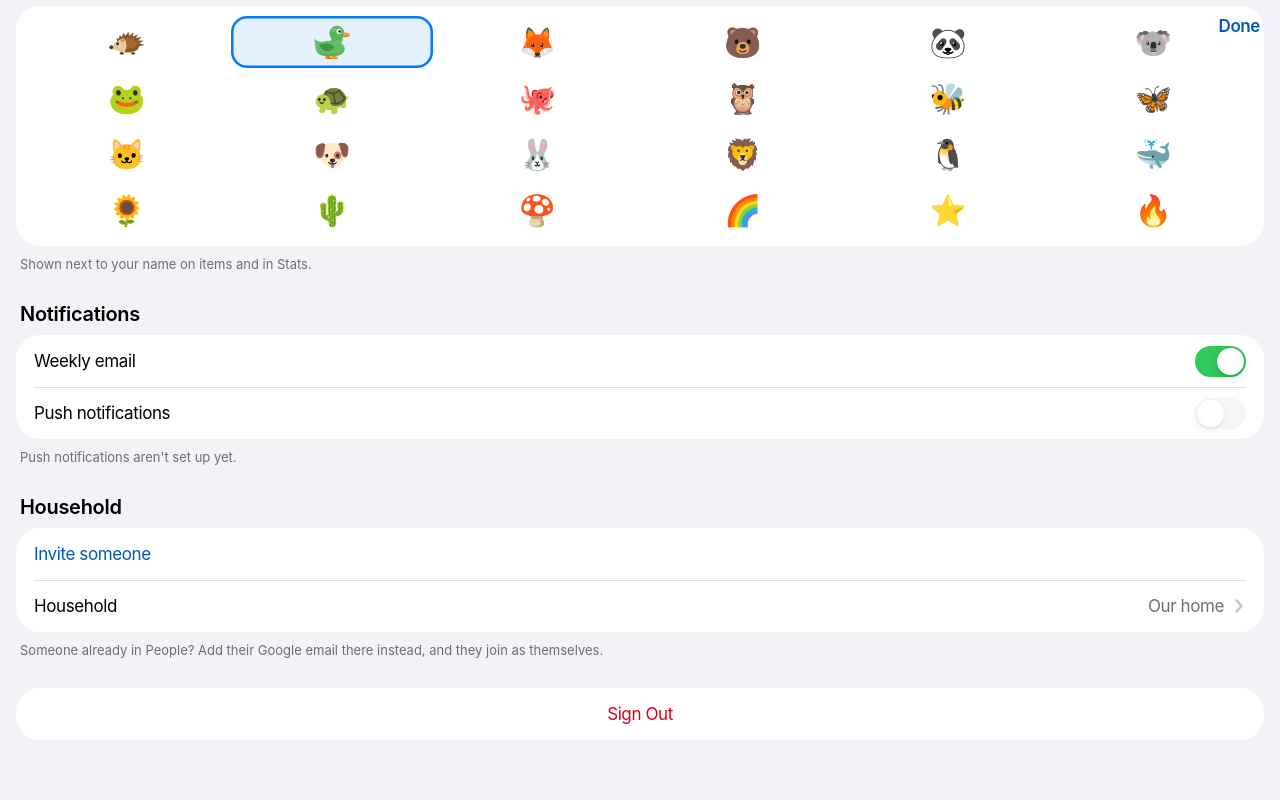
Test: People: who has joined › lists everyone in member order, saying who has not joined yet and with which email
(page scrolled)
Step 1. Click the button "Household Our home" → (75, 606), box top-left (16, 580), bottom-right (1264, 632)
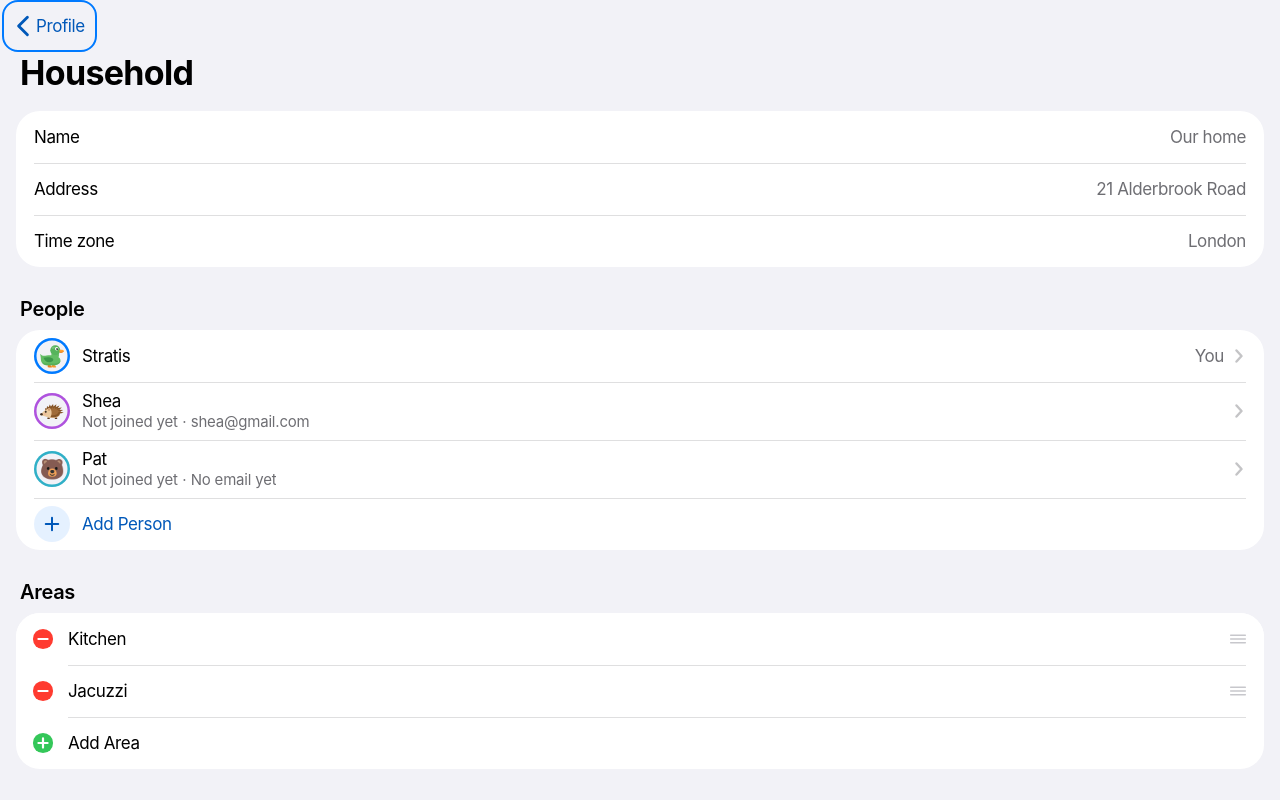
Check: the heading "Household" is shown, box top-left (20, 52), bottom-right (193, 93)
Check: the buttons read "🦆Stratis, You", "🦔Shea, Not joined yet · , shea@gmail.com", "🐻Pat, Not joined yet · , No email yet", "Add Person", in this order, box top-left (16, 330), bottom-right (1264, 382); top-left (16, 382), bottom-right (1264, 440); top-left (16, 440), bottom-right (1264, 498); top-left (16, 498), bottom-right (1264, 550)
